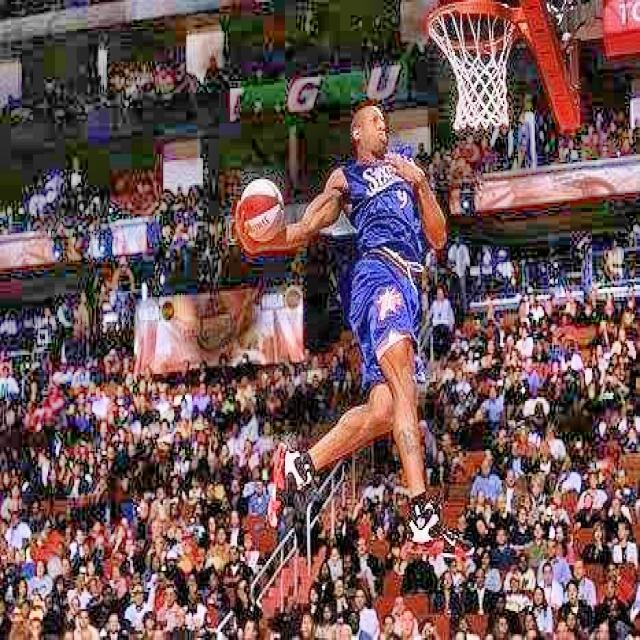rim: (426, 0, 511, 131)
